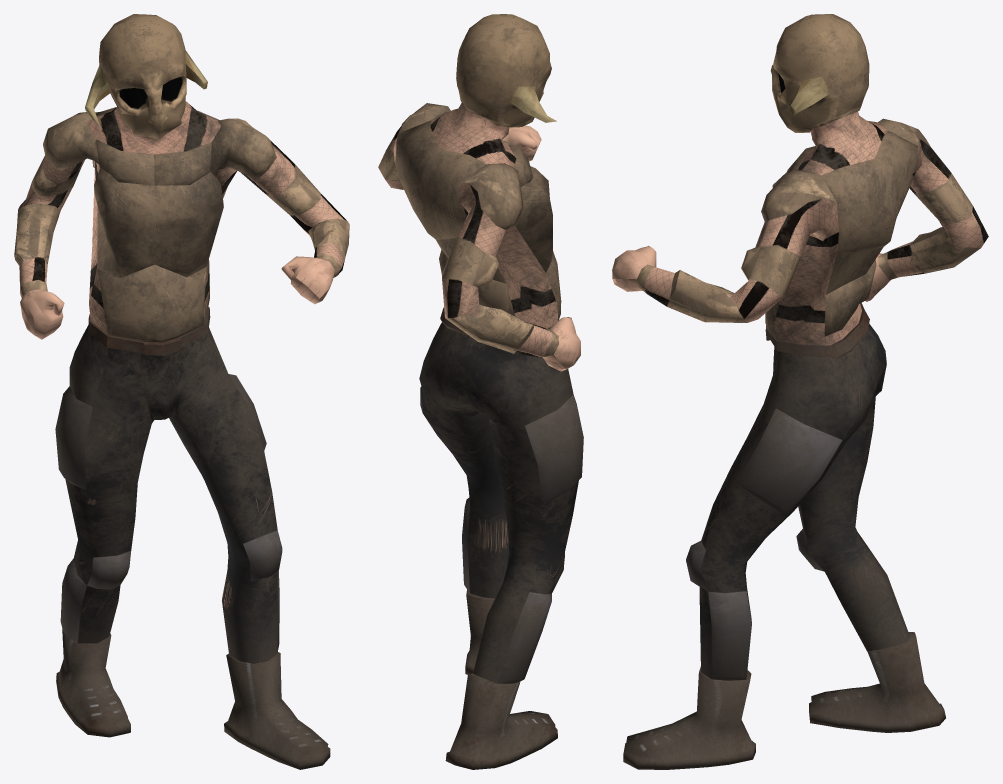
Rendered from Anim_ataque_d1_npc1.0017.obj.
The picture shows the model from 3 angles, left to right: view 1: azimuth 30°, elevation 25°; view 2: azimuth 150°, elevation 25°; view 3: azimuth 270°, elevation 25°; orthographic projection.
Parts seen in each view (by area): view 1: NPC2; view 2: NPC2; view 3: NPC2.
Part boxes in pixels (box(x1,y1,x2,y2)): NPC2: box(14, 14, 349, 769); NPC2: box(378, 14, 583, 769); NPC2: box(612, 14, 988, 769).
Size of the model in its own units: 3.55 by 9.33 by 4.45.
